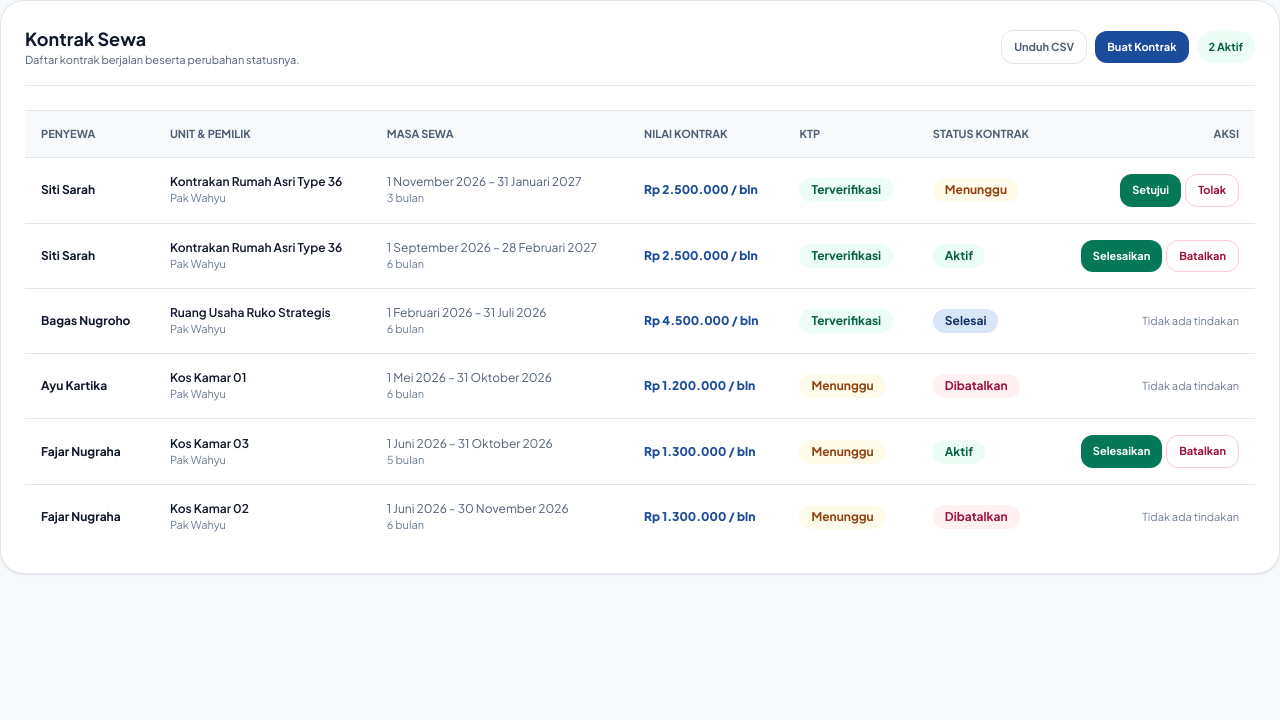
OwnerContractsPage › membuka form buat kontrak
Click the button "Buat Kontrak" at point(1142, 47), box [1095,30,1188,63]
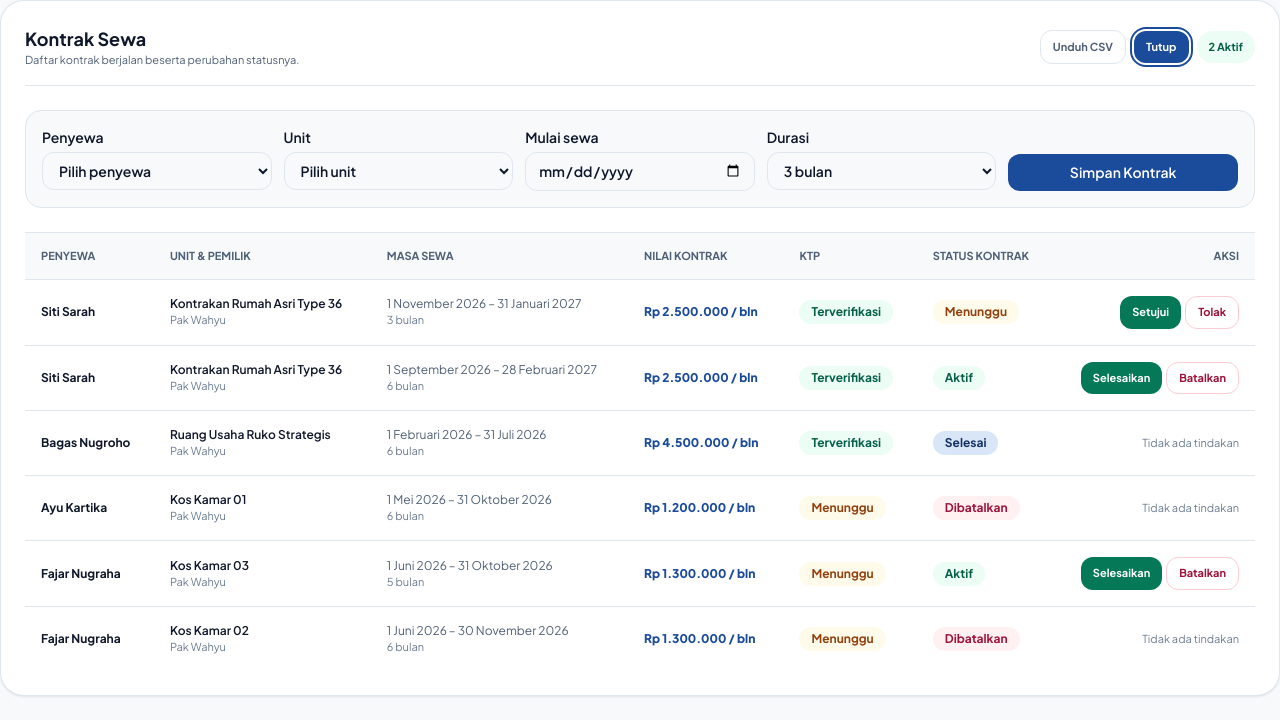
expect the dropdown labelled "Penyewa" is shown: met, box [42,152,272,190]
expect the dropdown labelled "Unit" is shown: met, box [284,152,513,190]
expect the date field labelled "Mulai sewa" is shown: met, box [525,152,755,190]
